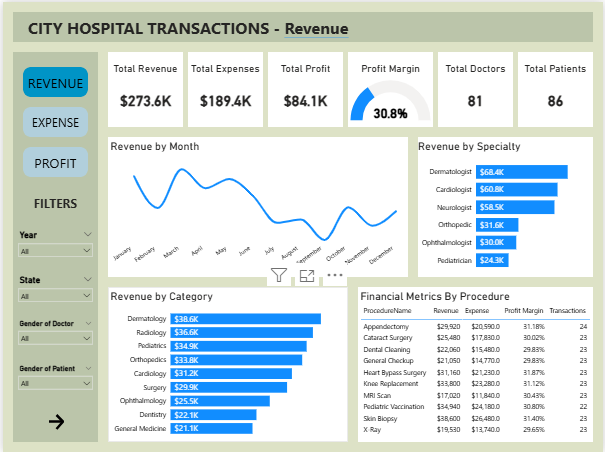

This screenshot's page, from the dashboard's own definition file:
{"tool":"powerbi","page":{"name":"1","canvas":[1200,900],"ordinal":0},"visuals":[{"type":"shape","box":[20,20,1160,60],"z":0},{"type":"shape","box":[20,100,170,780],"z":1000},{"type":"slicer","fields":{"Values":["Doctor Dim.Doctor_Gender"]},"box":[20,630,170,70],"z":2000},{"type":"lineChart","fields":{"Y":["Facts Table.Revenue"],"Category":["Hospital Transactions.Date.Variation.Date Hierarchy.Month"]},"box":[210,270,600,280],"z":3000},{"type":"barChart","fields":{"Y":["Facts Table.Revenue"],"Category":["Procedure Table.Category"]},"box":[210,570,480,310],"z":5000},{"type":"barChart","fields":{"Y":["Facts Table.Revenue"],"Category":["Doctor Dim.Specialty"]},"box":[830,270,350,280],"z":6000},{"type":"tableEx","title":"Financial Metrics By Procedure","fields":{"Values":["Procedure Table.ProcedureName","Hospital Transactions.Total Revenue","Hospital Transactions.Total Expense","Hospital Transactions.Profit Margin","Hospital Transactions.TransactionID"]},"box":[710,570,470,310],"z":7000},{"type":"card","title":"Total Revenue","fields":{"Values":["Facts Table.Revenue"]},"box":[210,100,150,150],"z":8000},{"type":"card","title":"Total Profit","fields":{"Values":["Facts Table.Total Profit"]},"box":[530,100,150,150],"z":9000},{"type":"card","title":"Total Expenses","fields":{"Values":["Facts Table.Expense"]},"box":[370,100,150,150],"z":10000},{"type":"gauge","fields":{"Y":["Hospital Transactions.Profit Margin"]},"box":[690,100,170,150],"z":11000},{"type":"card","title":"Total Doctors","fields":{"Values":["Count(Hospital Transactions.DoctorID)"]},"box":[870,100,150,150],"z":12000},{"type":"slicer","fields":{"Values":["Patient Dim.Patients_Gender"]},"box":[20,720,170,70],"z":13000},{"type":"card","title":"Total Patients","fields":{"Values":["Count(Hospital Transactions.PatientID)"]},"box":[1030,100,150,150],"z":14000},{"type":"textbox","box":[40,25,700,50],"z":15000},{"type":"actionButton","box":[40,130,130,60],"z":16000},{"type":"textbox","box":[20,380,170,50],"z":19000},{"type":"slicer","fields":{"Values":["Hospital Transactions.Date.Variation.Date Hierarchy.Year"]},"box":[20,450,170,70],"z":20000},{"type":"slicer","fields":{"Values":["Location Dim.State"]},"box":[20,540,170,70],"z":21000},{"type":"actionButton","box":[40,210,130,60],"z":24000},{"type":"actionButton","box":[40,290,130,60],"z":25000},{"type":"actionButton","box":[55,820,100,40],"z":26001}]}

Visuals, with their boxes in screenshot pixels (x1, y1, x2, y2), scaled from the page's 1200x900 canvas onto the 605x452 screenshot:
shape: [left=10, top=10, right=595, bottom=40]
shape: [left=10, top=50, right=96, bottom=442]
slicer - Doctor Dim.Doctor_Gender: [left=10, top=316, right=96, bottom=352]
lineChart - Facts Table.Revenue x Hospital Transactions.Date.Variation.Date Hierarchy.Month: [left=106, top=136, right=408, bottom=276]
barChart - Facts Table.Revenue x Procedure Table.Category: [left=106, top=286, right=348, bottom=442]
barChart - Facts Table.Revenue x Doctor Dim.Specialty: [left=418, top=136, right=595, bottom=276]
"Financial Metrics By Procedure" tableEx: [left=358, top=286, right=595, bottom=442]
"Total Revenue" card: [left=106, top=50, right=182, bottom=126]
"Total Profit" card: [left=267, top=50, right=343, bottom=126]
"Total Expenses" card: [left=187, top=50, right=262, bottom=126]
gauge - Hospital Transactions.Profit Margin: [left=348, top=50, right=434, bottom=126]
"Total Doctors" card: [left=439, top=50, right=514, bottom=126]
slicer - Patient Dim.Patients_Gender: [left=10, top=362, right=96, bottom=397]
"Total Patients" card: [left=519, top=50, right=595, bottom=126]
textbox: [left=20, top=13, right=373, bottom=38]
actionButton: [left=20, top=65, right=86, bottom=95]
textbox: [left=10, top=191, right=96, bottom=216]
slicer - Hospital Transactions.Date.Variation.Date Hierarchy.Year: [left=10, top=226, right=96, bottom=261]
slicer - Location Dim.State: [left=10, top=271, right=96, bottom=306]
actionButton: [left=20, top=105, right=86, bottom=136]
actionButton: [left=20, top=146, right=86, bottom=176]
actionButton: [left=28, top=412, right=78, bottom=432]
